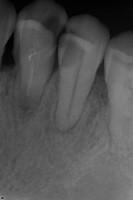Furcation Involvement: (12, 88, 41, 117)
